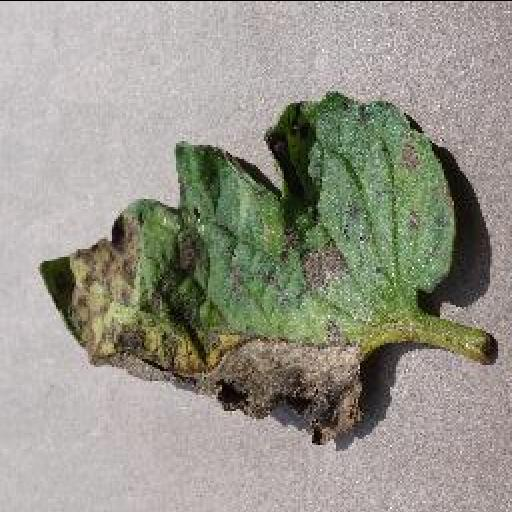disease_tomato: (30, 88, 456, 438)
